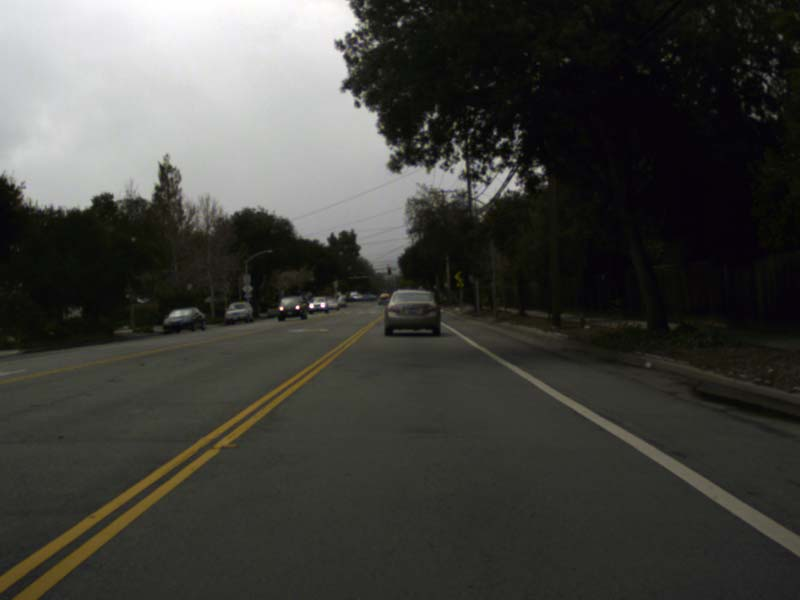Red: (386, 265, 391, 275)
